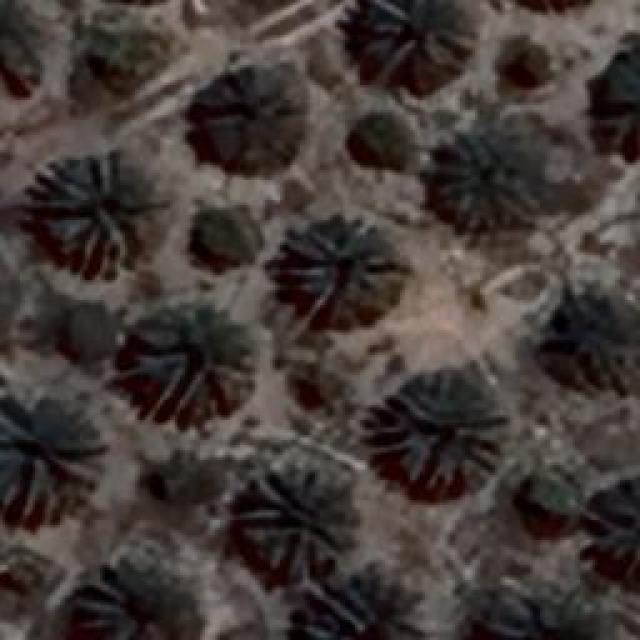PalmTree: (122, 300, 258, 418), (35, 150, 163, 270), (375, 382, 503, 496), (280, 215, 405, 328), (530, 272, 640, 396), (0, 390, 102, 520), (430, 122, 542, 228), (238, 472, 352, 572), (192, 68, 302, 170), (72, 5, 180, 100), (94, 538, 202, 632), (360, 0, 478, 78), (305, 562, 420, 636), (471, 582, 614, 640), (577, 482, 640, 587), (0, 2, 50, 96), (598, 62, 638, 158), (484, 0, 612, 20)
